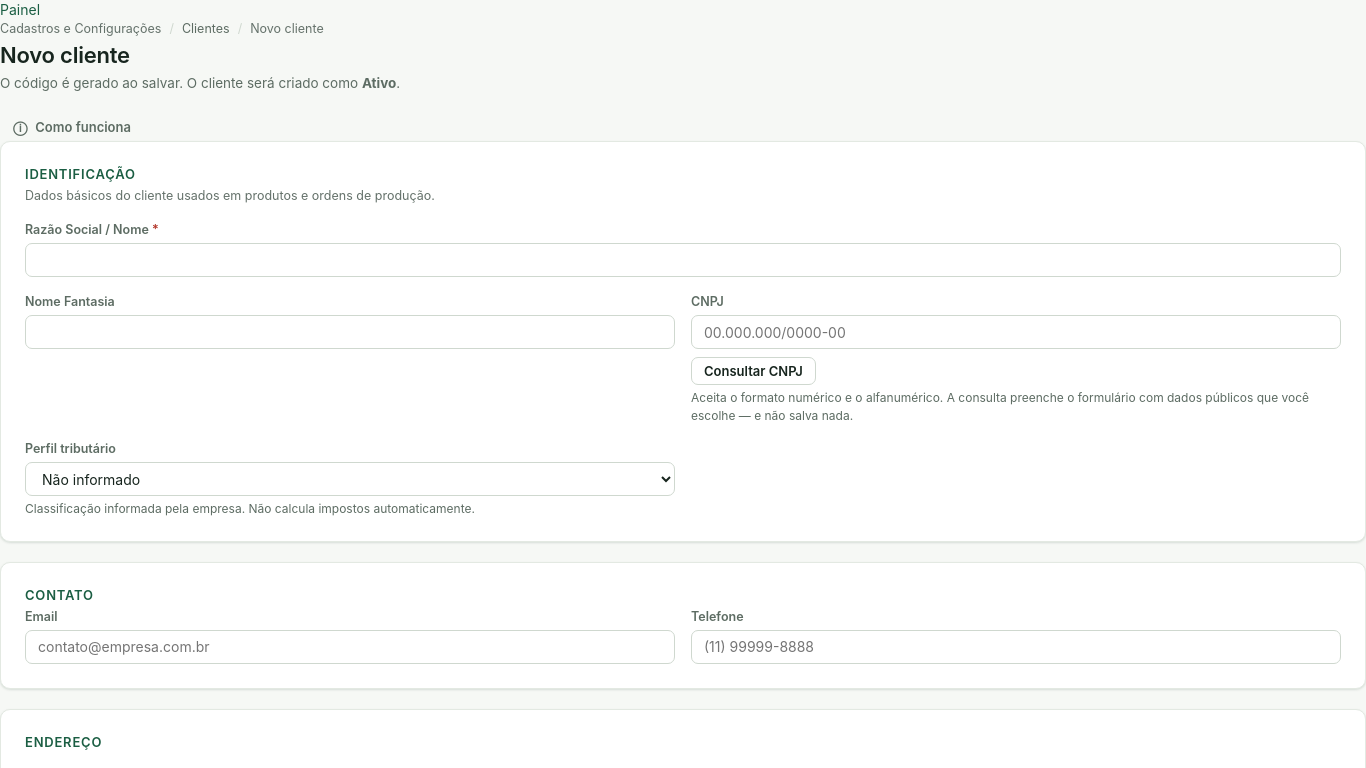
Test case: Cliente novo — guarda de alterações não salvas › razão social digitada pergunta antes de sair
The image size is (1366, 768).
Check: the heading "Novo cliente" is shown, box [0,42,130,68]
Type "IGEIA Suplementos LTDA" into the field with id "customer-legal-name".
click(683, 260); type("IGEIA Suplementos LTDA")  # box [25,243,1341,277]
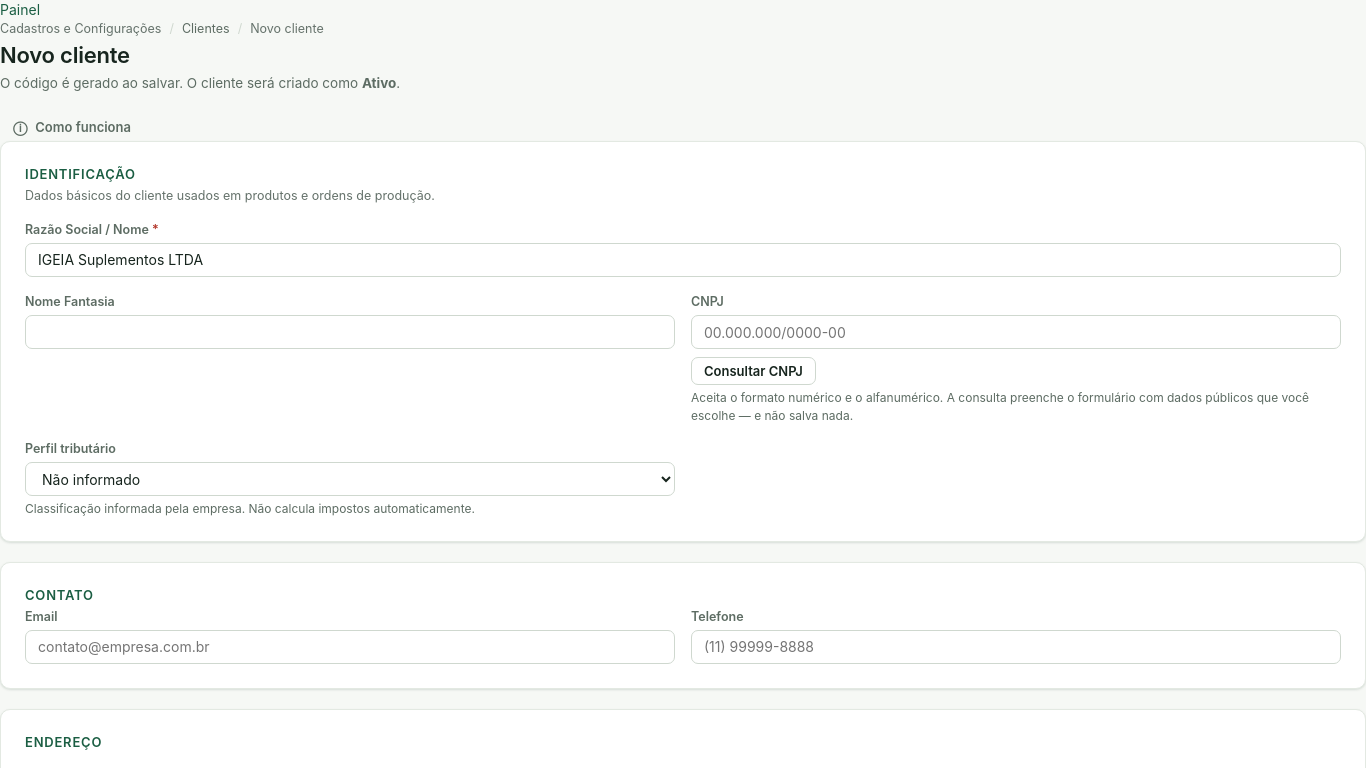
Click the link "Painel".
click(20, 10)  # box [0,1,40,18]
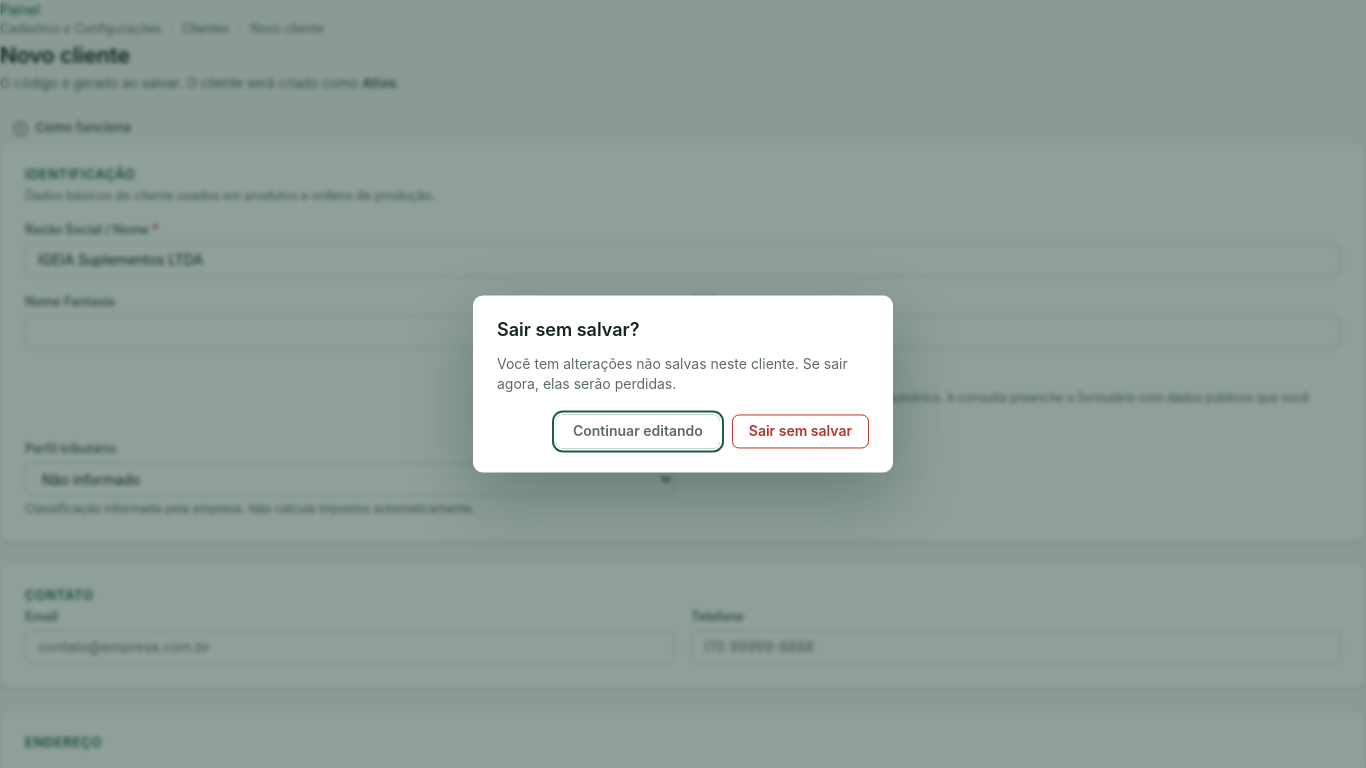
Check: the heading "Sair sem salvar?" is shown, box [497,320,640,340]
Check: the text "alterações não salvas neste cliente" is shown, box [497,354,869,395]
